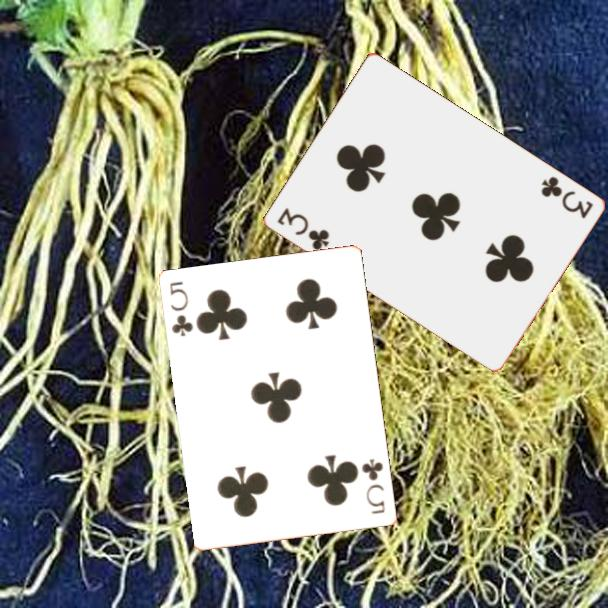c03: (273, 204, 332, 253), (537, 173, 596, 222)
c05: (358, 455, 388, 517), (166, 278, 196, 340)
